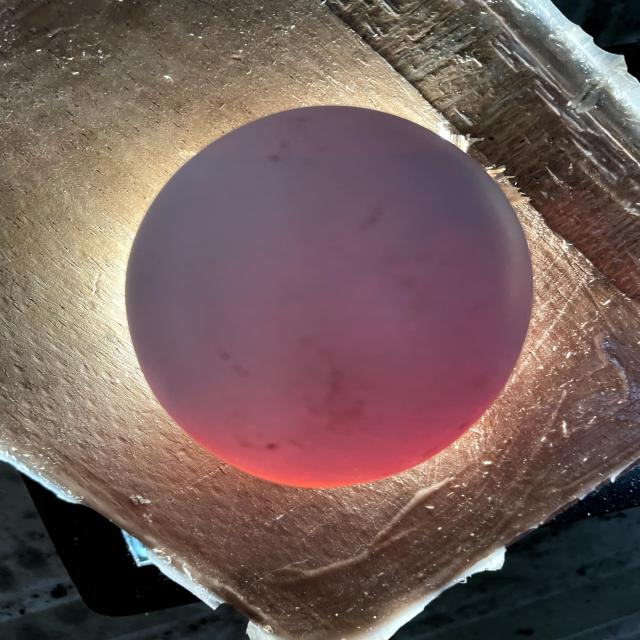fertile: (127, 106, 533, 487)
